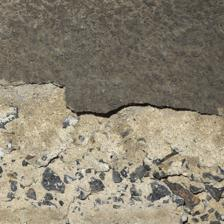Crack: (2, 40, 219, 82)
